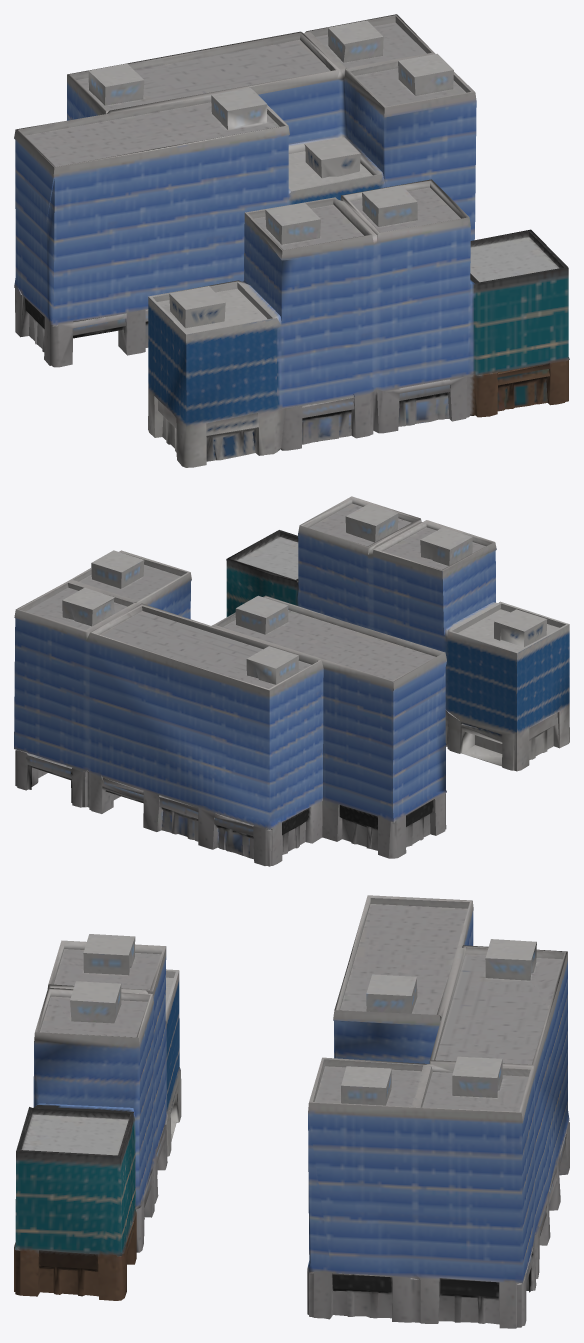
The model's file is clod_town_c03_02_clod000.gltf.
The picture shows the model from 3 angles, top to bottom: view 1: azimuth 30°, elevation 25°; view 2: azimuth 150°, elevation 25°; view 3: azimuth 270°, elevation 25°; orthographic projection. The views are drawn at different scales.
Visible parts, largest first — view 1: clod_town_c03_02_clod000_000_meshShape:remesh_mat; view 2: clod_town_c03_02_clod000_000_meshShape:remesh_mat; view 3: clod_town_c03_02_clod000_000_meshShape:remesh_mat.
Part boxes in pixels (x1,y1,x2,y2): clod_town_c03_02_clod000_000_meshShape:remesh_mat: [14, 14, 569, 467]; clod_town_c03_02_clod000_000_meshShape:remesh_mat: [14, 496, 569, 866]; clod_town_c03_02_clod000_000_meshShape:remesh_mat: [14, 895, 569, 1328].
Size of the model in its own units: 57.07 by 27.48 by 60.47.
Materials: 1 (1 with a texture image).
